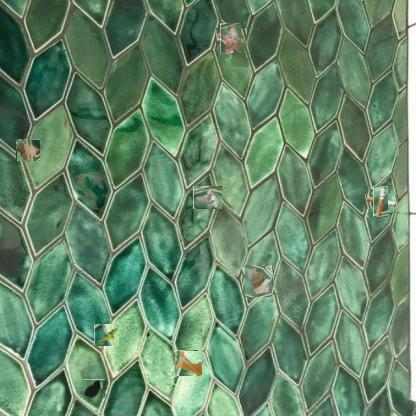dirty: (244, 266, 274, 296), (195, 184, 221, 211), (218, 25, 244, 52), (369, 190, 393, 213), (94, 324, 119, 346), (17, 139, 41, 161)
liquid: (174, 350, 202, 376), (83, 379, 105, 398)
